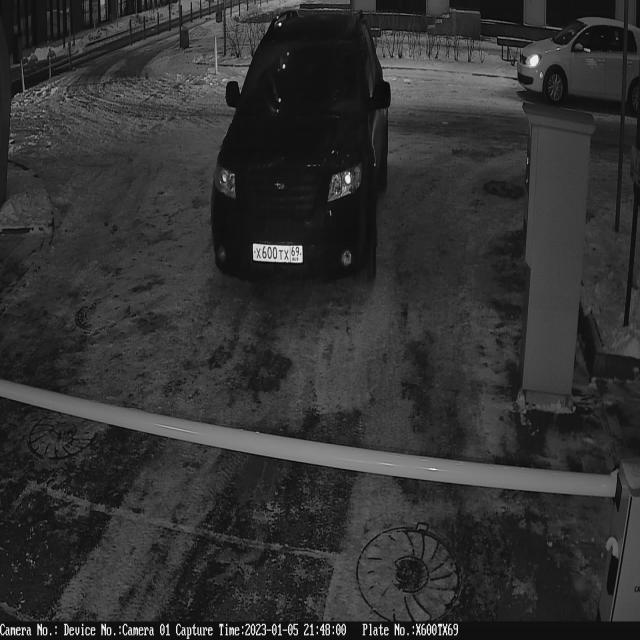car-plate-numbers: (250, 238, 305, 273)
